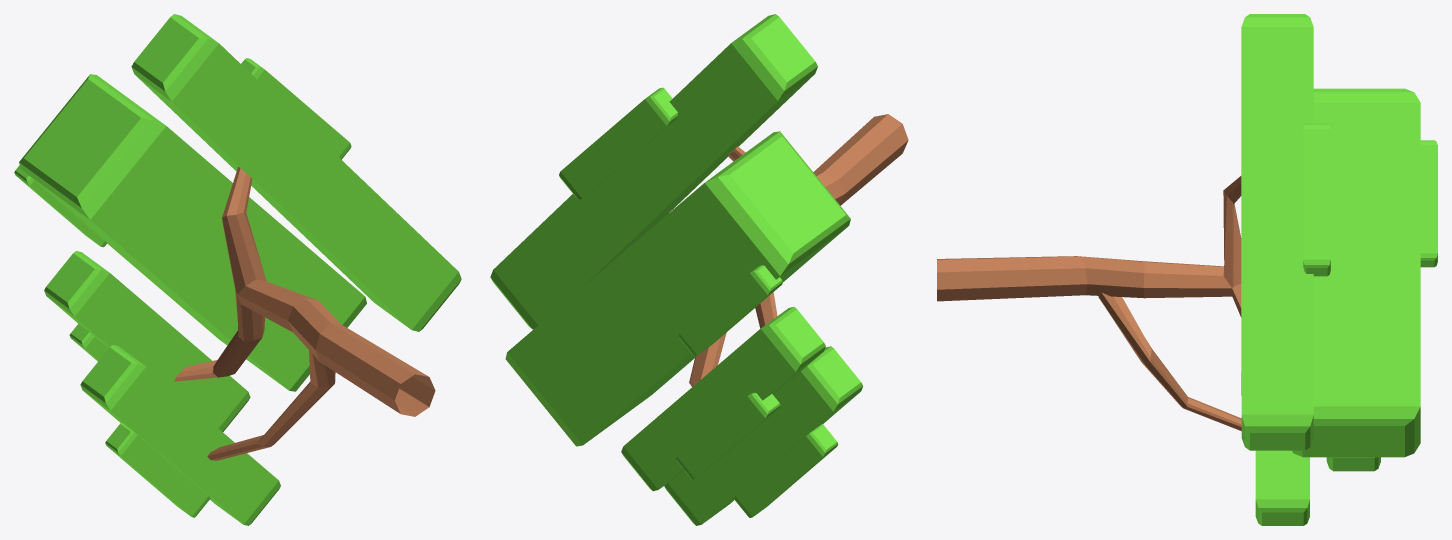
File: árbol 7.fbx
3 views of the same model, side by side, from view 1: azimuth 30°, elevation 25°; view 2: azimuth 150°, elevation 25°; view 3: azimuth 270°, elevation 25° (orthographic). The views are drawn at different scales.
Parts seen in each view (by area): view 1: Circle.001; view 2: Circle.001; view 3: Circle.001.
Boxes of the visible parts, left/top/right/bottom form: Circle.001: left=14, top=14, right=461, bottom=525; Circle.001: left=490, top=14, right=908, bottom=525; Circle.001: left=937, top=14, right=1437, bottom=525.
Size of the model in its own units: 1741 by 2365 by 2216.
